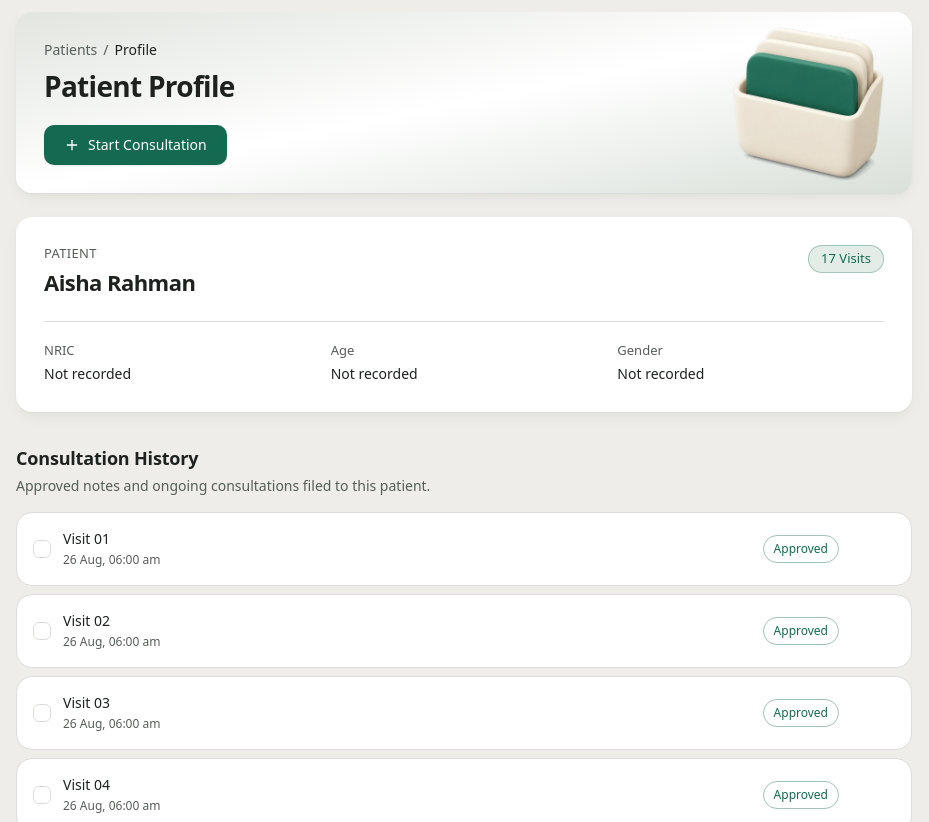
Test: the consultation history › pages, selects and renames like the consultation list
Expected: the text "Visit 01" is shown, [63,529,110,548]
Click the checkbox named "Select consultation" next to "Visit 01": (42, 549) [33,540,51,558]
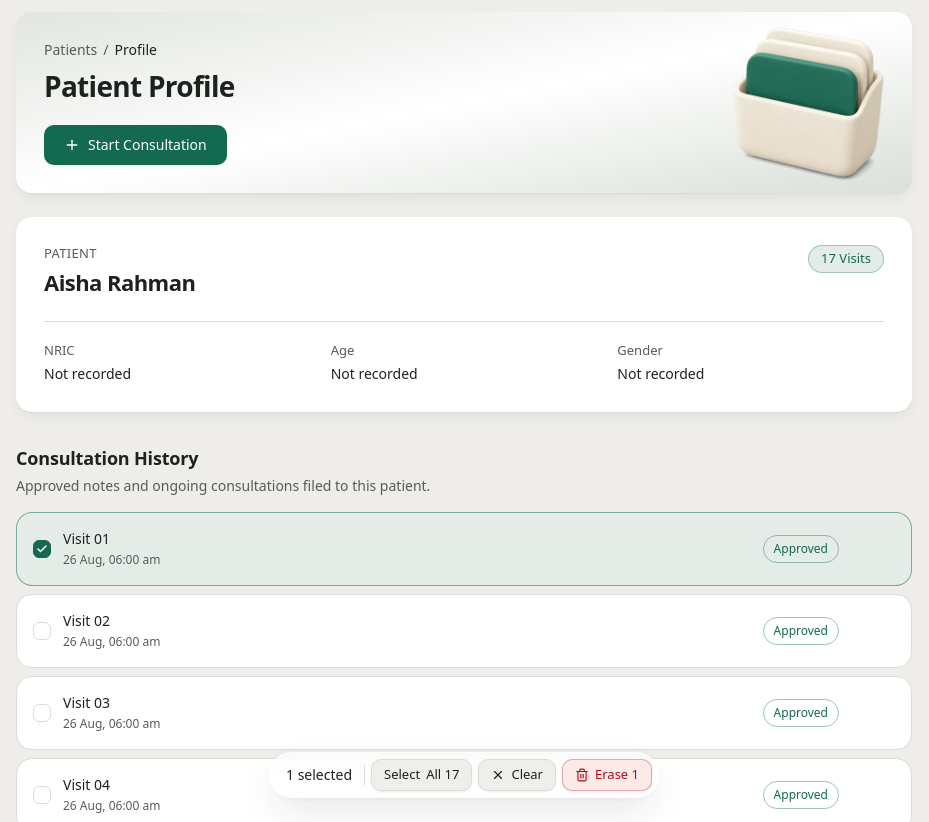
Expected: the message reads "1 selected", [286,765,352,785]
Expected: the button with aria-label "Select all 17 consultations" is shown, [371,759,472,791]
Expected: the button "Erase 1" is shown, [562,759,652,791]
